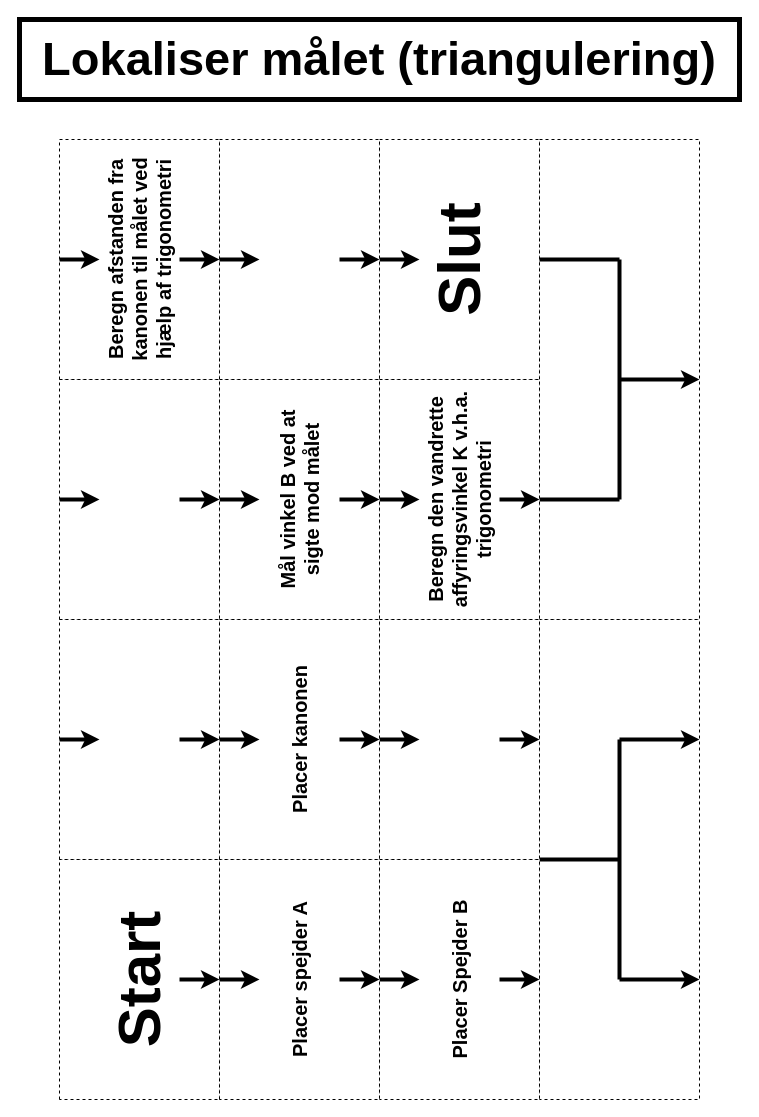
Image size: 759x1117. Some labels were removed from this diagram. The shapes that lost their labels are listed below. From the top down, each one's centre as x and y in pixels, then its label:
point (299, 259): Beregn den lodrette affyringsvinkel v.h.a "det skrå kast"
point (139, 499): Mål vinkel A ved at sigte mod målet
point (139, 739): Mål afstanden mellem A og B
point (459, 739): Mål afstanden fra spejder A til kanonen
